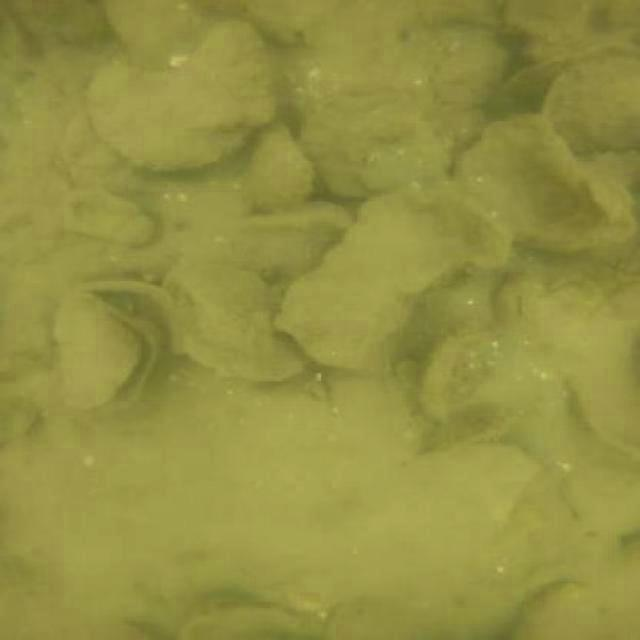Oyster-Closed: (283, 193, 477, 371), (449, 109, 639, 257), (86, 21, 270, 171), (165, 262, 307, 381), (300, 88, 446, 195), (544, 49, 639, 149), (65, 113, 157, 195), (425, 329, 497, 419), (434, 32, 505, 107), (104, 1, 194, 59), (416, 404, 520, 454), (516, 583, 608, 639), (248, 125, 312, 204), (324, 602, 395, 639)
Oyster-Open: (60, 300, 158, 411)
